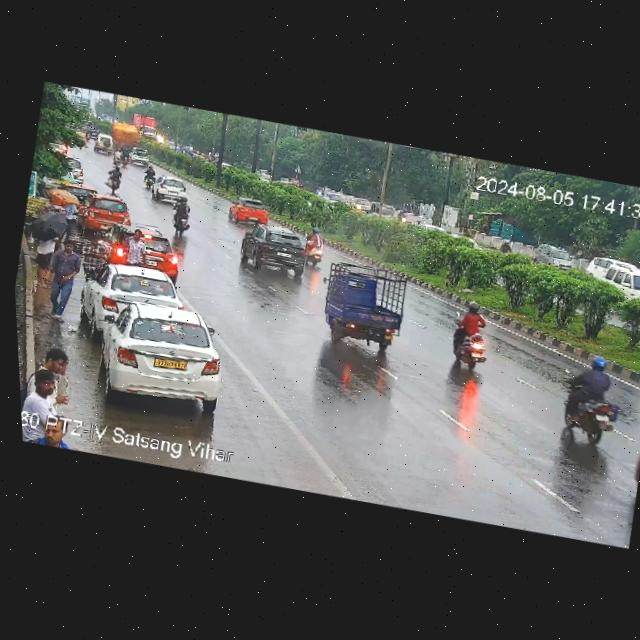car: (86, 297, 234, 416), (77, 255, 184, 337), (313, 262, 416, 347), (97, 221, 187, 275), (233, 218, 312, 278), (76, 190, 132, 235), (587, 255, 640, 289), (226, 195, 273, 229), (601, 265, 640, 303), (152, 175, 195, 206), (536, 244, 581, 272), (54, 155, 90, 181), (60, 183, 97, 206), (129, 144, 156, 167), (91, 131, 117, 154), (319, 190, 351, 207), (176, 143, 198, 162)
motorcycle: (551, 350, 640, 447), (436, 295, 495, 371), (164, 197, 200, 237), (300, 227, 334, 269), (105, 164, 125, 194), (141, 164, 158, 190), (395, 207, 410, 226), (500, 242, 515, 255)
person: (18, 348, 94, 444), (39, 238, 84, 319), (124, 229, 151, 268)
truck: (107, 120, 142, 149), (131, 115, 162, 141)
